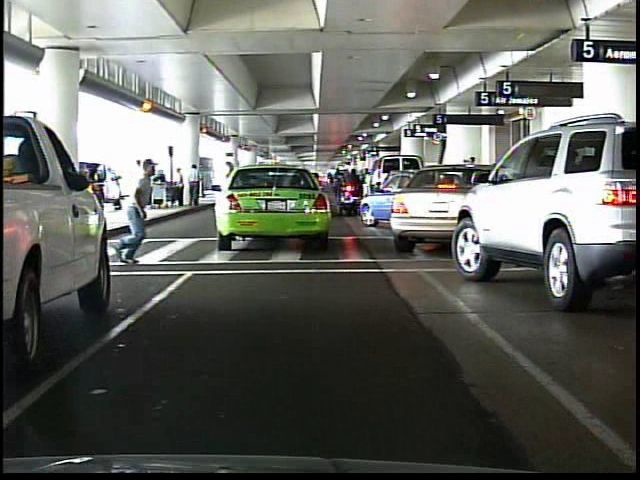person: (116, 153, 168, 272)
